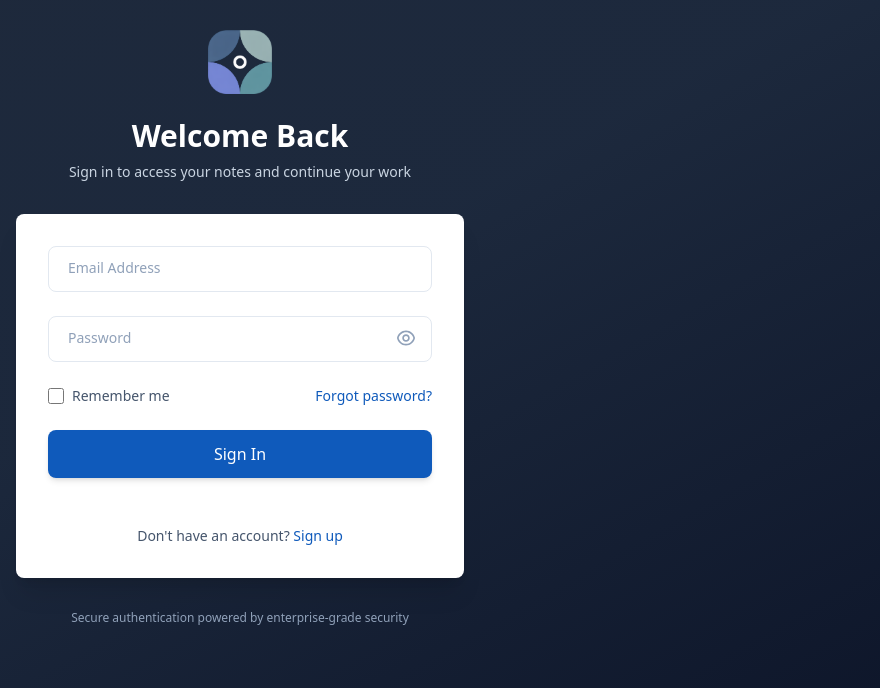
Scenario: Login Page Component › shows validation error if submitting empty form
// Click Submit without typing
Click the button "Sign In".
click(240, 454)  # box [48,430,432,478]
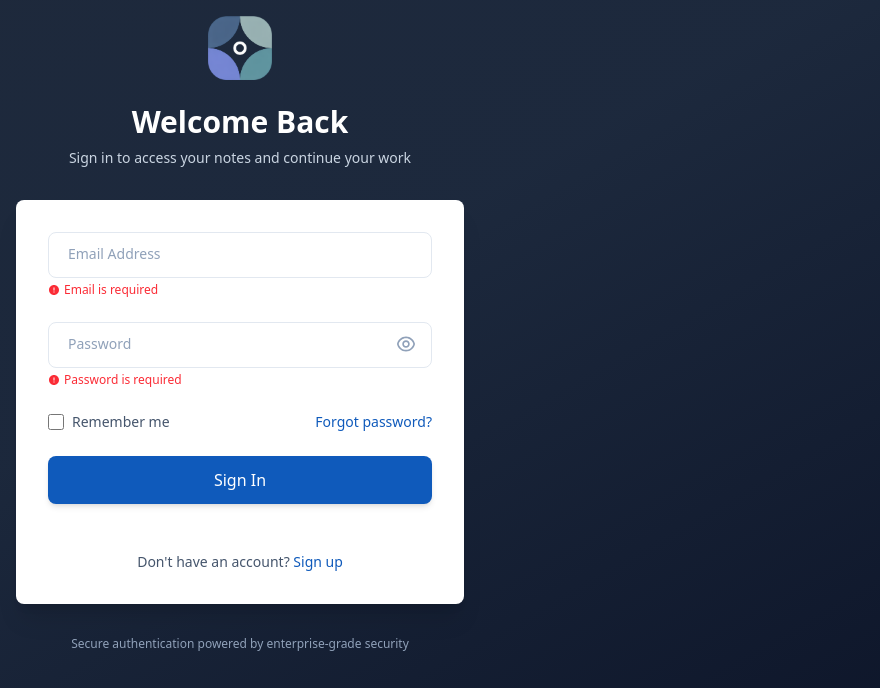
Expected: the text "Email is required" is shown, [48,281,158,298]
Expected: the text "Password is required" is shown, [48,371,182,388]
